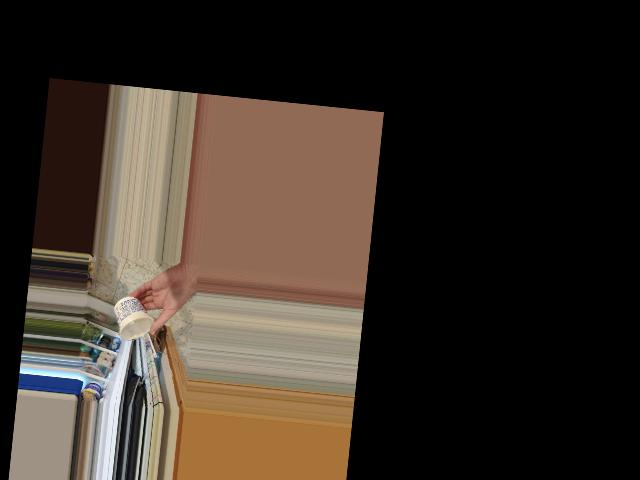cotage: (112, 298, 153, 344)
